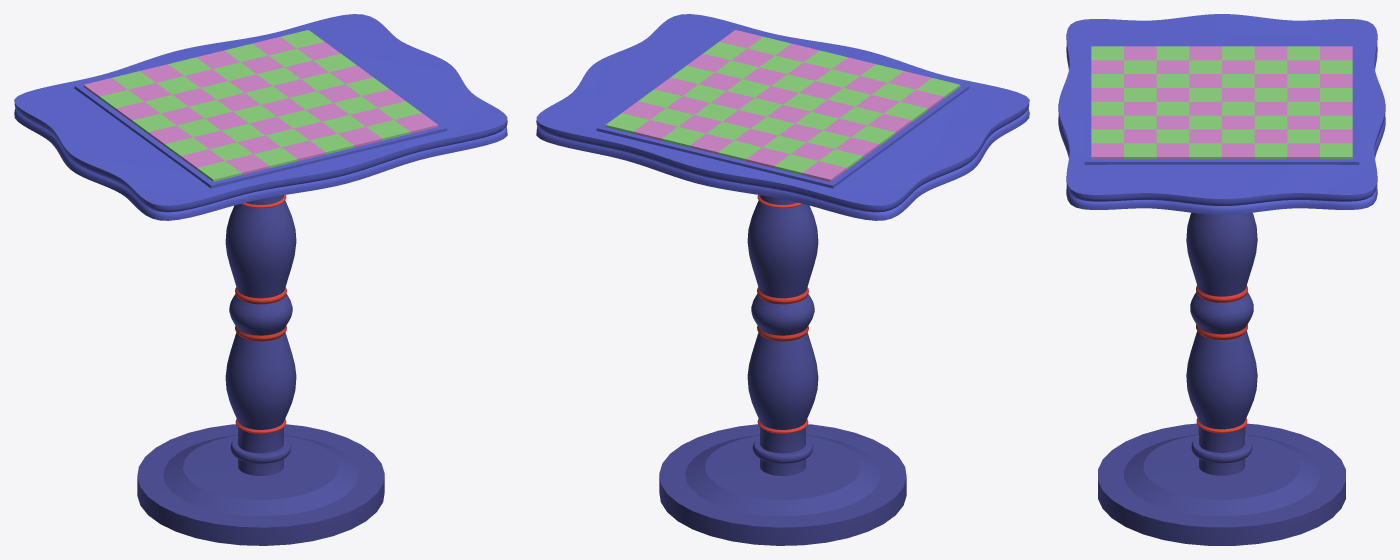
Rendered from Table_fbx.fbx.
3 renders of one model, left to right at view 1: azimuth 30°, elevation 25°; view 2: azimuth 150°, elevation 25°; view 3: azimuth 270°, elevation 25°, orthographic.
Parts seen in each view (by area): view 1: Table; view 2: Table; view 3: Table.
Boxes of the visible parts, x1,y1,x2,y2 form: Table: [14, 14, 507, 545]; Table: [536, 14, 1029, 545]; Table: [1058, 14, 1385, 545].
Size of the model in its own units: 0.75 by 0.74 by 0.56.
